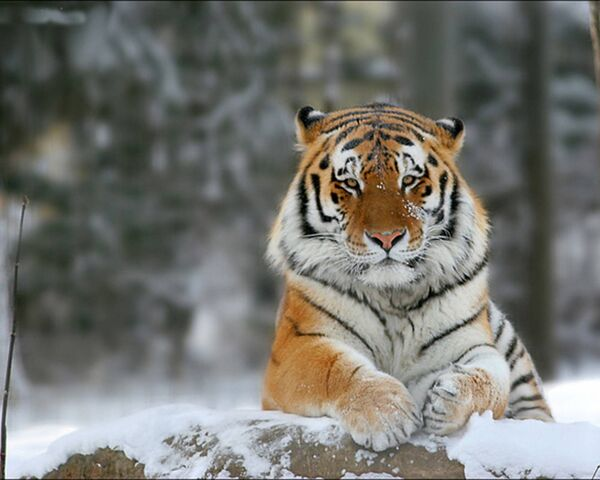Tigrew: (264, 92, 563, 441)
